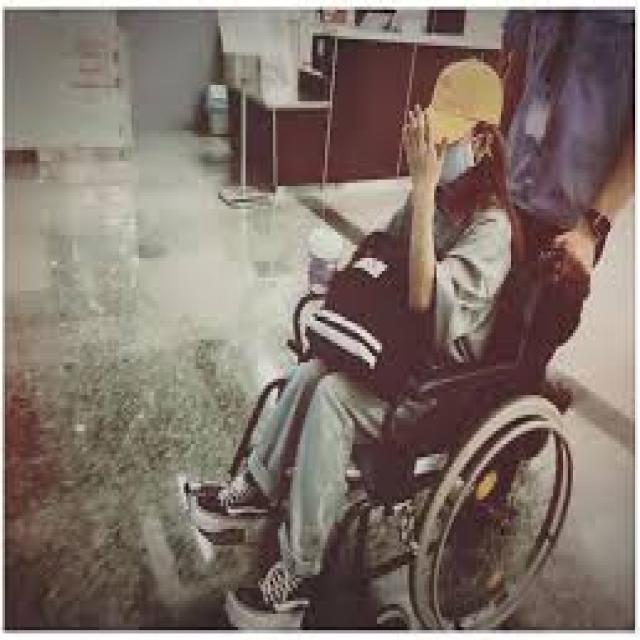wheelchairs: (191, 186, 588, 624)
